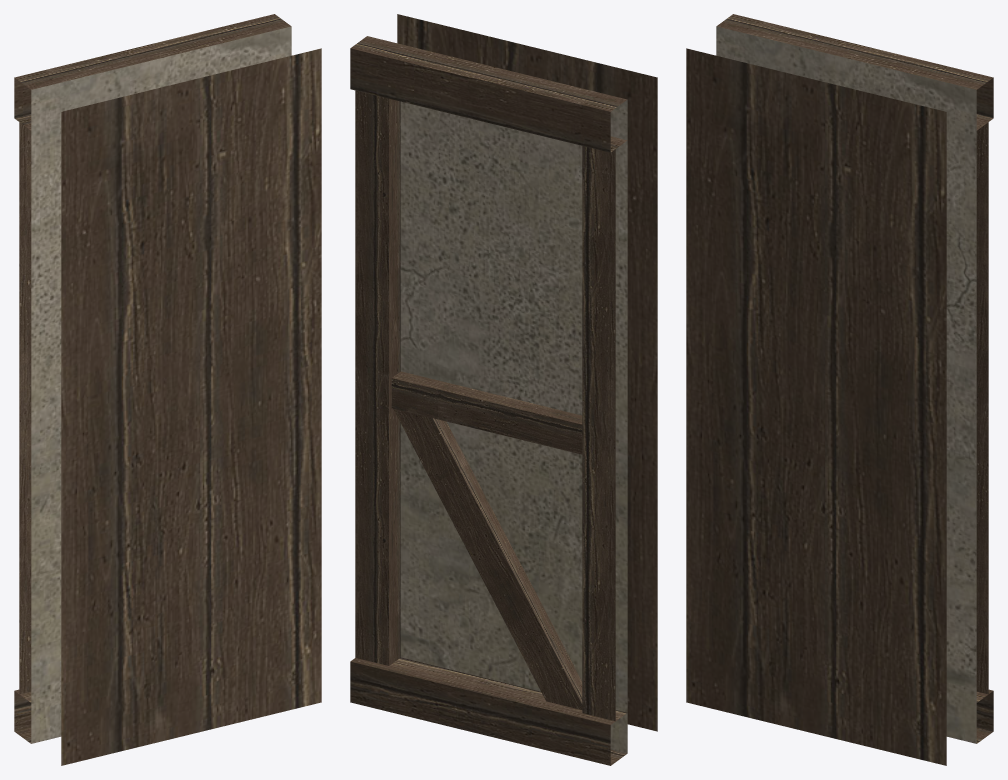
Rendered from ARC1010259.fbx.
3 renders of one model, left to right at view 1: azimuth 30°, elevation 25°; view 2: azimuth 150°, elevation 25°; view 3: azimuth 330°, elevation 25°, orthographic.
Visible parts, largest first — view 1: smARC1010259; view 2: smARC1010259; view 3: smARC1010259.
Part boxes in pixels (x1,y1,x2,y2): smARC1010259: [14, 14, 321, 765]; smARC1010259: [350, 14, 657, 765]; smARC1010259: [686, 14, 993, 765].
Bounding box in the file's own units: 112 × 268 × 34.9.
1 material, 1 textured.
